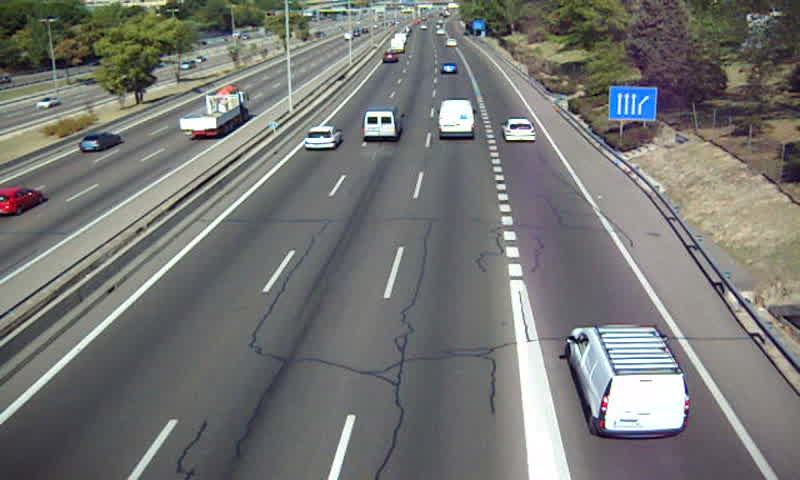car: (304, 124, 342, 151), (502, 118, 536, 143), (440, 62, 458, 76)
van: (571, 326, 692, 438), (363, 104, 404, 144), (439, 99, 475, 140)
